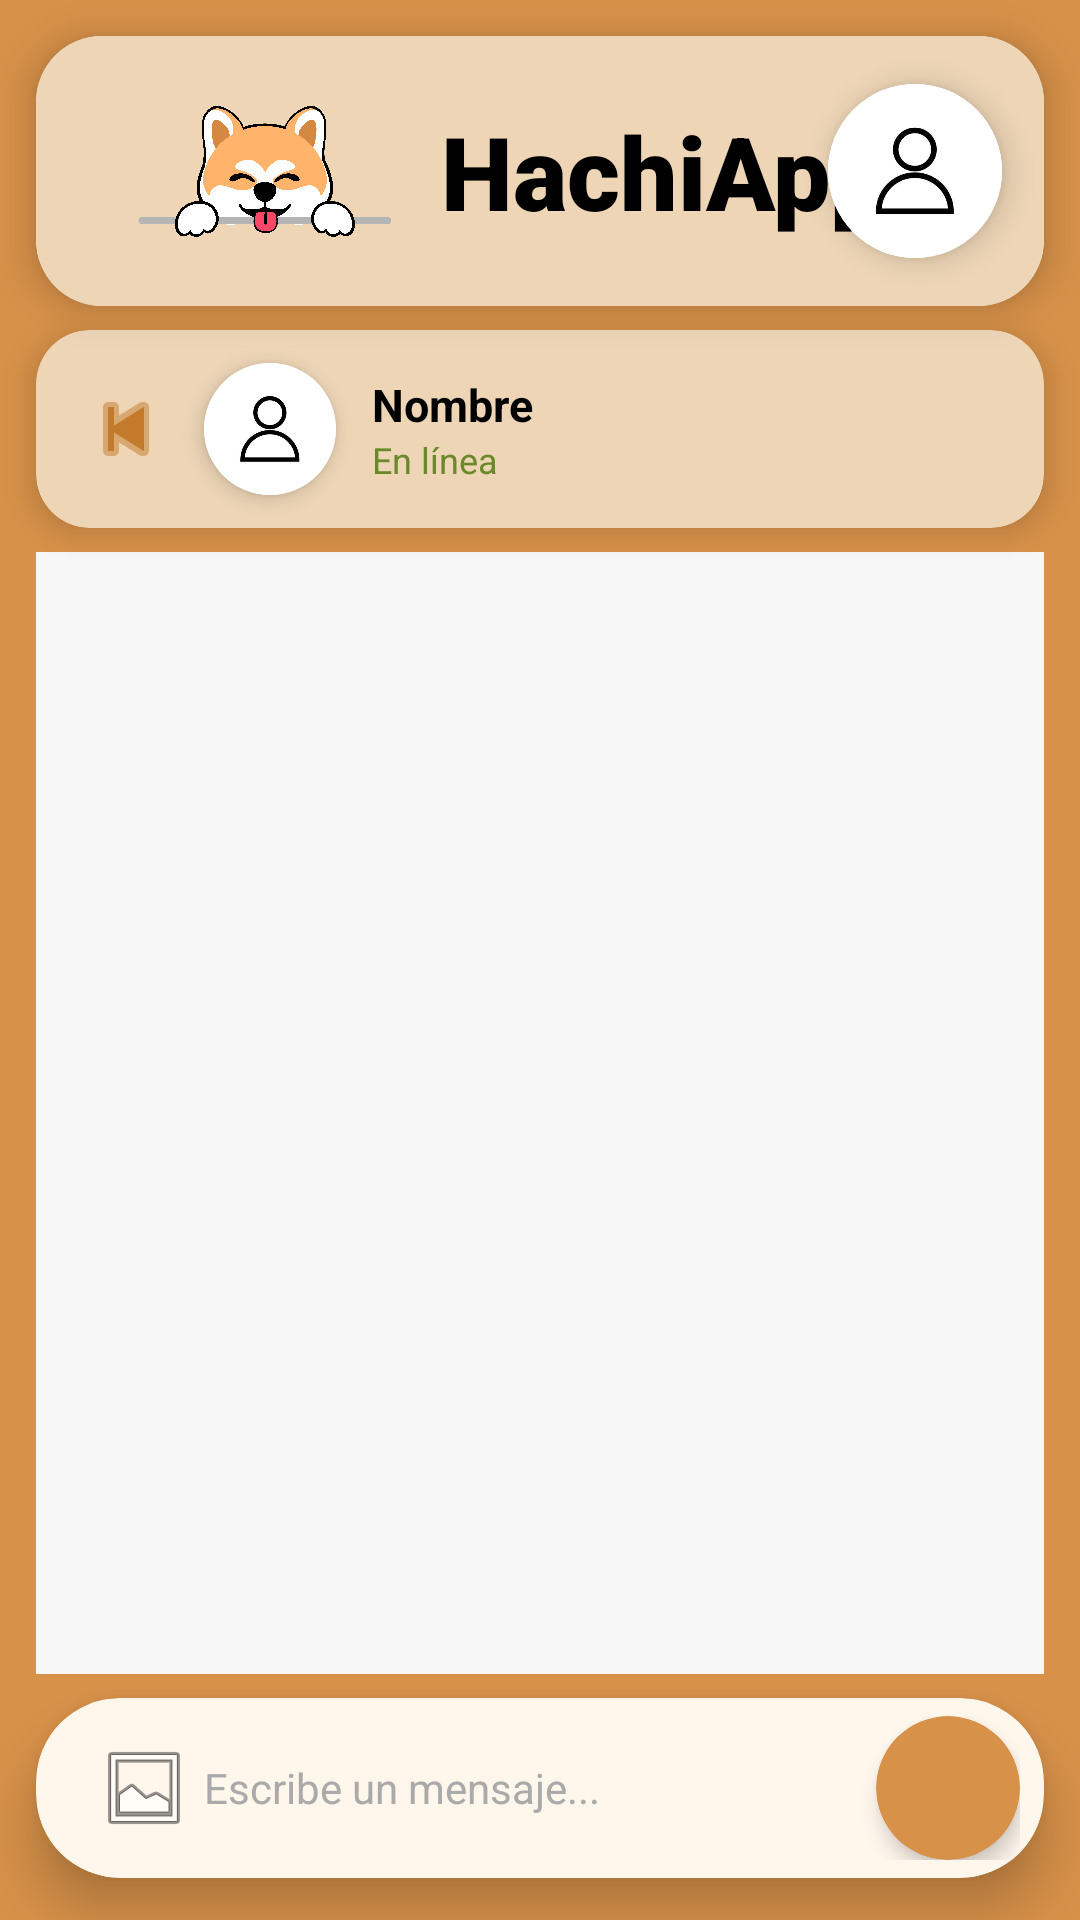

Icon click points for this 1080×1920 phone screenshot, format [x,y]:
gallery: [144,1788]
iconoprincipal: [264,171]
perfil: [915,171], [270,429]
Volver: [126,429]
